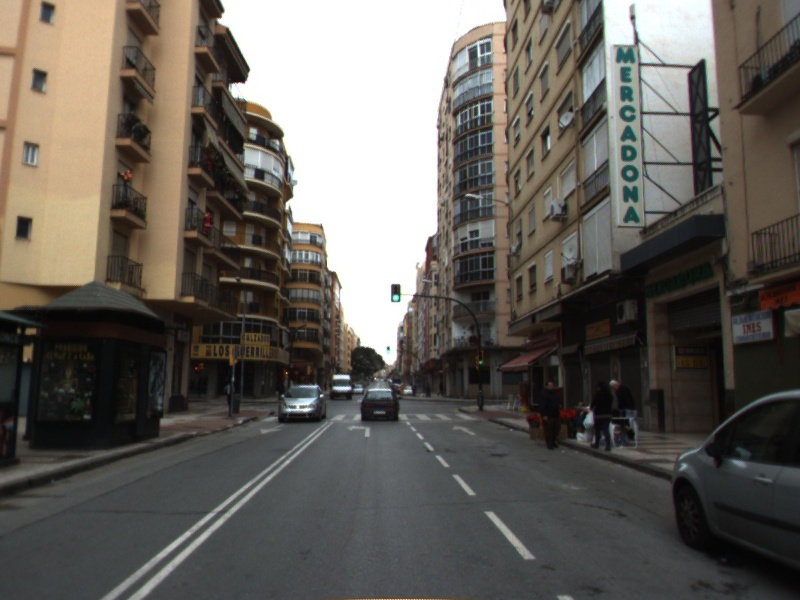LEFT: (345, 423, 372, 438)
STRAIGHT: (450, 424, 477, 437)
